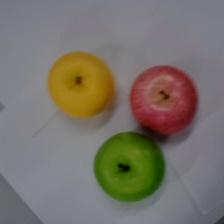green: (93, 130, 165, 200)
red: (130, 64, 199, 135)
yellow: (48, 51, 114, 119)
